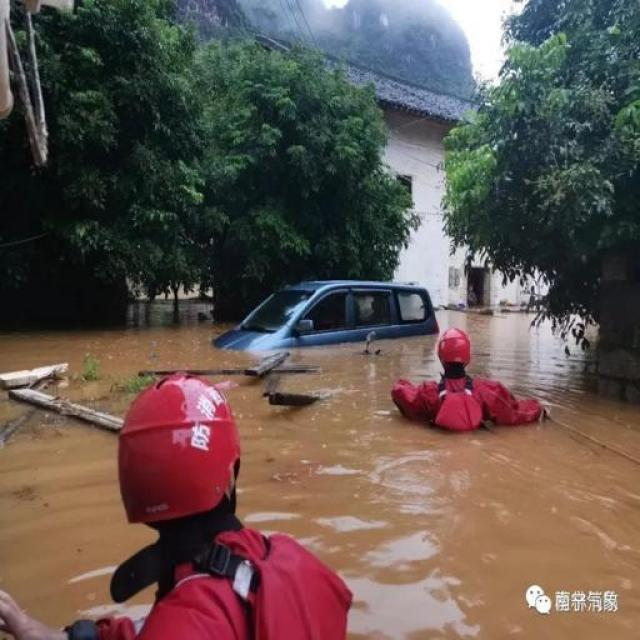rescuer: (86, 346, 356, 640), (379, 297, 564, 458)
